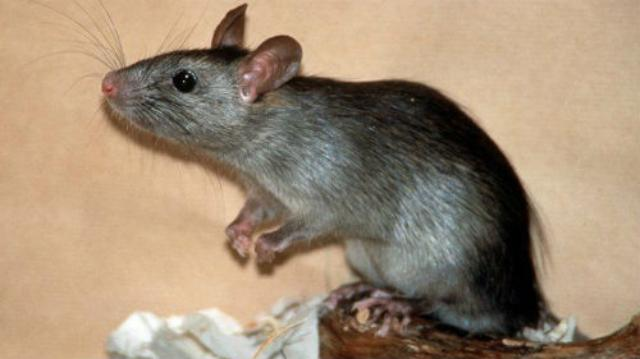rat: (80, 0, 448, 302)
